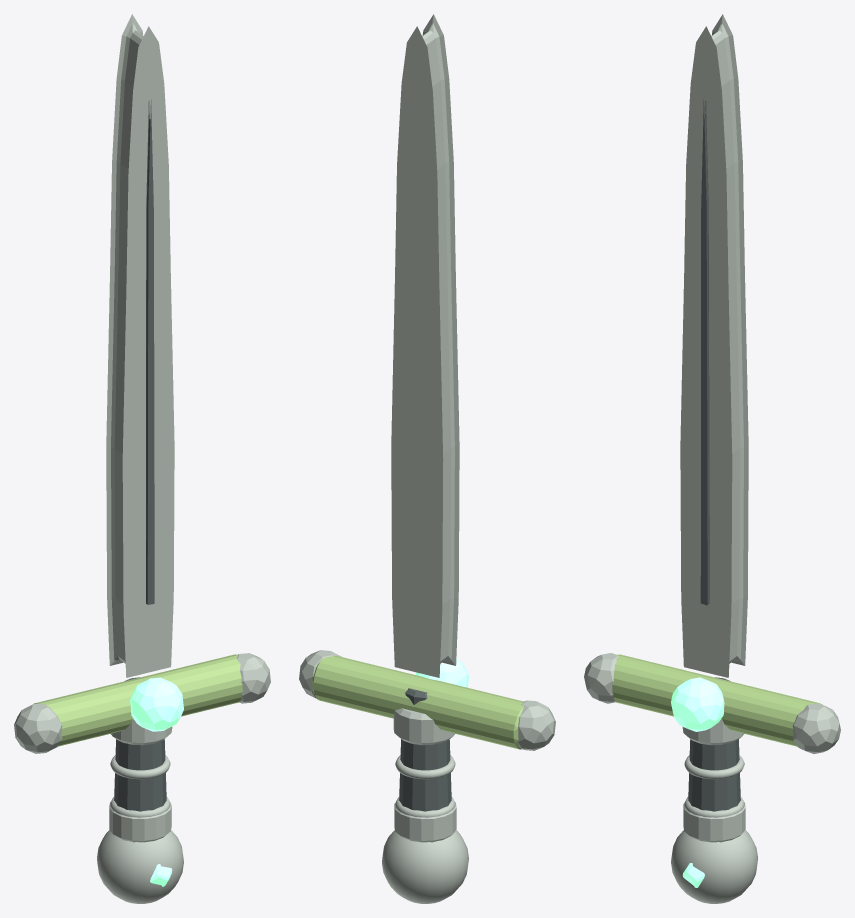
The model's file is assassin-sword-02-venom-needle.glb.
3 views of the same model, side by side, from view 1: azimuth 30°, elevation 25°; view 2: azimuth 150°, elevation 25°; view 3: azimuth 330°, elevation 25° (orthographic).
Visible parts, largest first — view 1: assassin-sword-02-venom-needle_ForgedBlade, assassin-sword-02-venom-needle_Crossguard, assassin-sword-02-venom-needle_Pommel, assassin-sword-02-venom-needle_ColoredFuller, assassin-sword-02-venom-needle_LeatherGrip, assassin-sword-02-venom-needle_GuardGem, assassin-sword-02-venom-needle_GuardEnd_-1, assassin-sword-02-venom-needle_LowerFerrule, assassin-sword-02-venom-needle_GuardEnd_1, assassin-sword-02-venom-needle_UpperFerrule, assassin-sword-02-venom-needle_GripBinding_2; view 2: assassin-sword-02-venom-needle_ForgedBlade, assassin-sword-02-venom-needle_Crossguard, assassin-sword-02-venom-needle_Pommel, assassin-sword-02-venom-needle_LeatherGrip, assassin-sword-02-venom-needle_LowerFerrule, assassin-sword-02-venom-needle_GuardEnd_-1, assassin-sword-02-venom-needle_UpperFerrule, assassin-sword-02-venom-needle_GuardEnd_1, assassin-sword-02-venom-needle_GuardGem, assassin-sword-02-venom-needle_GripBinding_2; view 3: assassin-sword-02-venom-needle_ForgedBlade, assassin-sword-02-venom-needle_Crossguard, assassin-sword-02-venom-needle_Pommel, assassin-sword-02-venom-needle_ColoredFuller, assassin-sword-02-venom-needle_LeatherGrip, assassin-sword-02-venom-needle_GuardGem, assassin-sword-02-venom-needle_GuardEnd_1, assassin-sword-02-venom-needle_LowerFerrule, assassin-sword-02-venom-needle_GuardEnd_-1, assassin-sword-02-venom-needle_UpperFerrule, assassin-sword-02-venom-needle_GripBinding_2.
Boxes of the visible parts, x1,y1,x2,y2 form: assassin-sword-02-venom-needle_ForgedBlade: (106, 14, 174, 677); assassin-sword-02-venom-needle_Crossguard: (33, 654, 242, 746); assassin-sword-02-venom-needle_Pommel: (97, 830, 183, 903); assassin-sword-02-venom-needle_ColoredFuller: (146, 100, 154, 604); assassin-sword-02-venom-needle_LeatherGrip: (114, 677, 166, 811); assassin-sword-02-venom-needle_GuardGem: (130, 677, 183, 731); assassin-sword-02-venom-needle_GuardEnd_-1: (14, 703, 62, 753); assassin-sword-02-venom-needle_LowerFerrule: (109, 802, 171, 842); assassin-sword-02-venom-needle_GuardEnd_1: (237, 653, 270, 703); assassin-sword-02-venom-needle_UpperFerrule: (110, 719, 172, 745); assassin-sword-02-venom-needle_GripBinding_2: (110, 755, 170, 779); assassin-sword-02-venom-needle_ForgedBlade: (391, 14, 459, 677); assassin-sword-02-venom-needle_Crossguard: (312, 655, 523, 749); assassin-sword-02-venom-needle_Pommel: (382, 830, 468, 903); assassin-sword-02-venom-needle_LeatherGrip: (399, 688, 451, 811); assassin-sword-02-venom-needle_LowerFerrule: (394, 802, 456, 842); assassin-sword-02-venom-needle_GuardEnd_-1: (517, 700, 555, 750); assassin-sword-02-venom-needle_UpperFerrule: (393, 708, 454, 745); assassin-sword-02-venom-needle_GuardEnd_1: (299, 650, 341, 698); assassin-sword-02-venom-needle_GuardGem: (416, 658, 468, 687); assassin-sword-02-venom-needle_GripBinding_2: (395, 755, 455, 779); assassin-sword-02-venom-needle_ForgedBlade: (680, 14, 748, 677); assassin-sword-02-venom-needle_Crossguard: (612, 654, 822, 746); assassin-sword-02-venom-needle_Pommel: (671, 830, 757, 903); assassin-sword-02-venom-needle_ColoredFuller: (700, 100, 709, 605); assassin-sword-02-venom-needle_LeatherGrip: (688, 677, 740, 811); assassin-sword-02-venom-needle_GuardGem: (671, 677, 724, 731); assassin-sword-02-venom-needle_GuardEnd_1: (792, 703, 840, 753); assassin-sword-02-venom-needle_LowerFerrule: (683, 802, 745, 842); assassin-sword-02-venom-needle_GuardEnd_-1: (584, 653, 618, 703); assassin-sword-02-venom-needle_UpperFerrule: (682, 719, 744, 745); assassin-sword-02-venom-needle_GripBinding_2: (684, 755, 744, 779).
Size of the model in its own units: 0.422 by 1.42 by 0.15.
